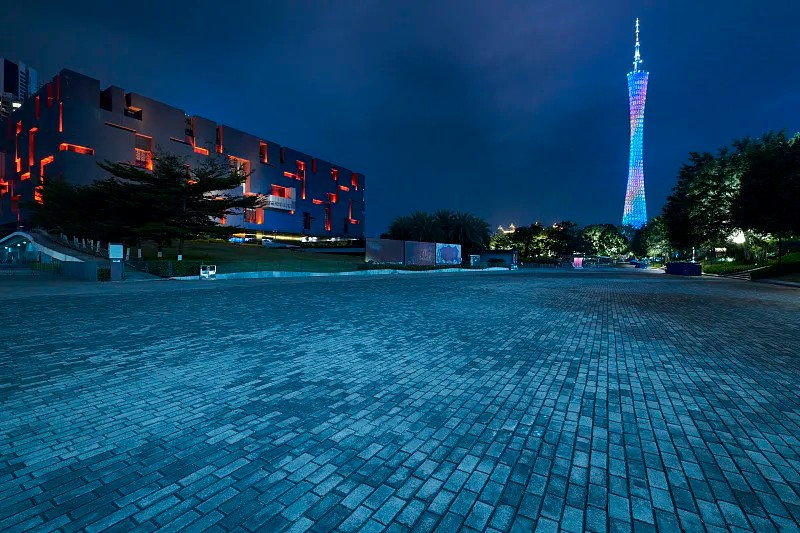Canton: (622, 17, 651, 233)
